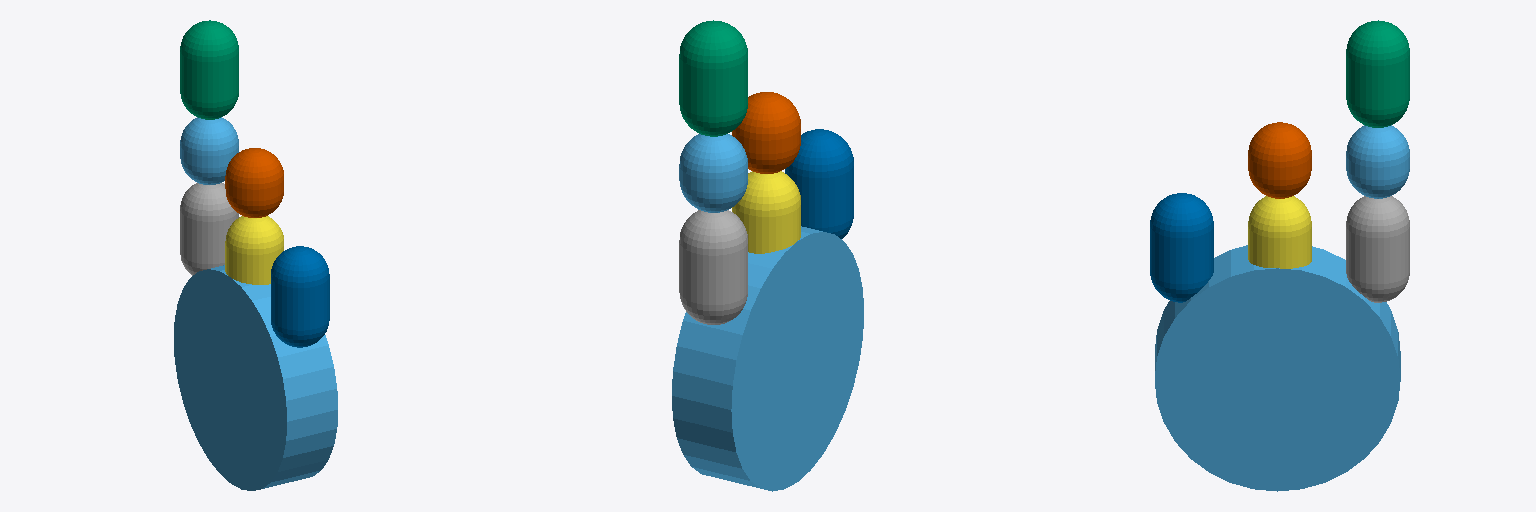
The robot description file, URDF, robot "DexterousHand":
<?xml version="1.0"?>
<robot name="DexterousHand">


    <link name="world"/>
    <joint name="world_to_palm" type="fixed">
        <parent link="world"/>
        <child link="palm"/>
        <origin xyz="0 0 0" rpy="0 0 0"/>
    </joint>
    <link name="palm">
        <inertial>
            <origin xyz="0 0 0.057" rpy="0 0 0"/>
            <mass value="0.30212892864"/>
            <inertia ixx="0.00049080844457568" ixy="0.0" ixz="0.0" iyy="0.00026746366246427523" iyz="0.0" izz="0.00026746366246427523"/>
        </inertial>
        <visual>
            <origin xyz="0 0 0.057" rpy="1.5708 0 1.5708"/>
            <geometry>
                <cylinder radius="0.057" length="0.0296"/>
            </geometry>
            <material name="default"/>
        </visual>
        <collision>
            <origin xyz="0 0 0.057" rpy="1.5708 0 1.5708"/>
            <geometry>
                <cylinder radius="0.057" length="0.0296"/>
            </geometry>
        </collision>
    </link>

    
    <joint name="thumb_joint1" type="revolute">
        <parent link="palm"/>
        <child link="thumb_base"/>
        <origin xyz="0.0 0.0 0.0" rpy="0.0 0.0 0.0"/>
        <axis xyz="1 0 0"/>
        <limit lower="0.0" upper="0.0" effort="1.0" velocity="1.0"/>
    </joint>

    <link name="thumb_base"></link>

    <joint name="thumb_joint2" type="revolute">
        <parent link="thumb_base"/>
        <child link="thumb_proximal"/>
        <origin xyz="0.0 0.0 0.0" rpy="0.0 0.0 0.0"/>
        <axis xyz="0 1 0"/>
        <limit lower="0.0" upper="0.0" effort="1.0" velocity="1.0"/>
    </joint>

    <link name="thumb_proximal">
    </link>

    <joint name="thumb_joint3" type="revolute">
        <parent link="thumb_proximal"/>
        <child link="thumb_knuckle"/>
        <origin xyz="0.0 0.0 0.0" rpy="0.0 0.0 0.0"/>
        <axis xyz="1 0 0"/>
        <limit lower="0.0" upper="0.0" effort="1.0" velocity="1.0"/>
    </joint>

    <link name="thumb_knuckle"></link>

    <joint name="thumb_joint4" type="revolute">
        <parent link="thumb_knuckle"/>
        <child link="thumb_middle"/>
        <origin xyz="0 0 0" rpy="0 0 0"/> 
        <axis xyz="0 1 0"/>
        <limit lower="0.0" upper="0.0" effort="1.0" velocity="1.0"/>
    </joint>

    <link name="thumb_middle">
    </link>

    <joint name="thumb_joint5" type="revolute">
        <parent link="thumb_middle"/>
        <child link="thumb_distal"/>
        <origin xyz="0 0 0" rpy="0 0 0"/> 
        <axis xyz="0 1 0"/>
        <limit lower="0.0" upper="0.0" effort="1.0" velocity="1.0"/>
    </joint>

    <link name="thumb_distal">
    </link>

    
    <joint name="index_joint1" type="revolute">
        <parent link="palm"/>
        <child link="index_proximal"/>
        <origin xyz="0.0 0.0465 0.091" rpy="0.0 0.0 0.0"/>
        <axis xyz="0 1 0"/>
        <limit lower="-0.314" upper="2.23" effort="1.0" velocity="1.0"/>
    </joint>

    <link name="index_proximal">
        <inertial>
            <origin xyz="0 0 0.02655" rpy="0 0 0"/>
            <mass value="0.036540024998400006"/>
            <inertia ixx="1.058665009272394e-05" ixy="0.0" ixz="0.0" 
            iyy="1.058665009272394e-05" iyz="0.0" izz="4.001863537824769e-06"/>
        </inertial>
        <visual>
            <origin xyz="0 0 0.02655" rpy="0 0 0"/>
            <geometry>
                <cylinder radius="0.0148" length="0.0235"/>
            </geometry>
            <material name="default"/>
        </visual>
        <visual>
            <origin xyz="0 0 0.0148" rpy="0 0 0"/>
            <geometry>
                <sphere radius="0.0148"/>
            </geometry>
            <material name="default"/>
        </visual>
        <visual>
            <origin xyz="0 0 0.0383" rpy="0 0 0"/>
            <geometry>
                <sphere radius="0.0148"/>
            </geometry>
            <material name="default"/>
        </visual>
        <collision>
            <origin xyz="0 0 0.02655" rpy="0 0 0"/>
            <geometry>
                <cylinder radius="0.0148" length="0.0235"/>
            </geometry>
        </collision>
        <collision>
            <origin xyz="0 0 0.0148" rpy="0 0 0"/>
            <geometry>
                <sphere radius="0.0148"/>
            </geometry>
        </collision>
        <collision>
            <origin xyz="0 0 0.0383" rpy="0 0 0"/>
            <geometry>
                <sphere radius="0.0148"/>
            </geometry>
        </collision>
    </link>

    <joint name="index_joint2" type="revolute">
        <parent link="index_proximal"/>
        <child link="index_dummy"/>
        <origin xyz="0.0 0.0 0.038" rpy="0.0 0.0 0.0"/>
        <axis xyz="1 0 0"/>
        <limit lower="-1.047" upper="1.047" effort="1.0" velocity="1.0"/>
    </joint>

    <link name="index_dummy"></link>

    <joint name="index_joint3" type="revolute">
        <parent link="index_dummy"/>
        <child link="index_middle"/>
        <origin xyz="0 0 0.015100000000000002" rpy="0 0 0"/>
        <axis xyz="0 1 0"/>
        <limit lower="-0.506" upper="1.885" effort="1.0" velocity="1.0"/>
    </joint>

    <link name="index_middle">
        <inertial>
            <origin xyz="0 0 0.01805" rpy="0 0 0"/>
            <mass value="0.0248417119104"/>
            <inertia ixx="4.058162759109537e-06" ixy="0.0" ixz="0.0" 
            iyy="4.058162759109537e-06" iyz="0.0" izz="2.7206642884270085e-06"/>
        </inertial>
        <visual>
            <origin xyz="0 0 0.01805" rpy="0 0 0"/>
            <geometry>
                <cylinder radius="0.0148" length="0.006499999999999999"/>
            </geometry>
            <material name="default"/>
        </visual>
        <visual>
            <origin xyz="0 0 0.0148" rpy="0 0 0"/>
            <geometry>
                <sphere radius="0.0148"/>
            </geometry>
            <material name="default"/>
        </visual>
        <visual>
            <origin xyz="0 0 0.0213" rpy="0 0 0"/>
            <geometry>
                <sphere radius="0.0148"/>
            </geometry>
            <material name="default"/>
        </visual>
        <collision>
            <origin xyz="0 0 0.01805" rpy="0 0 0"/>
            <geometry>
                <cylinder radius="0.0148" length="0.006499999999999999"/>
            </geometry>
        </collision>
        <collision>
            <origin xyz="0 0 0.0148" rpy="0 0 0"/>
            <geometry>
                <sphere radius="0.0148"/>
            </geometry>
        </collision>
        <collision>
            <origin xyz="0 0 0.0213" rpy="0 0 0"/>
            <geometry>
                <sphere radius="0.0148"/>
            </geometry>
        </collision>
    </link>

    <joint name="index_joint4" type="revolute">
        <parent link="index_middle"/>
        <child link="index_distal"/>
        <origin xyz="0 0 0.0361" rpy="0 0 0"/> 
        <axis xyz="0 1 0"/>
        <limit lower="-0.366" upper="2.042" effort="1.0" velocity="1.0"/>
    </joint>

    <link name="index_distal">
        <inertial>
            <origin xyz="0 0 0.026" rpy="0 0 0"/>
            <mass value="0.035783075328"/>
            <inertia ixx="1.002260084553728e-05" ixy="0.0" ixz="0.0" 
            iyy="1.002260084553728e-05" iyz="0.0" izz="3.91896240992256e-06"/>
        </inertial>
        <visual>
            <origin xyz="0 0 0.026" rpy="0 0 0"/>
            <geometry>
                <cylinder radius="0.0148" length="0.022399999999999996"/>
            </geometry>
            <material name="default"/>
        </visual>
        <visual>
            <origin xyz="0 0 0.0148" rpy="0 0 0"/>
            <geometry>
                <sphere radius="0.0148"/>
            </geometry>
            <material name="default"/>
        </visual>
        <visual>
            <origin xyz="0 0 0.0372" rpy="0 0 0"/>
            <geometry>
                <sphere radius="0.0148"/>
            </geometry>
            <material name="default"/>
        </visual>
        <collision>
            <origin xyz="0 0 0.026" rpy="0 0 0"/>
            <geometry>
                <cylinder radius="0.0148" length="0.022399999999999996"/>
            </geometry>
        </collision>
        <collision>
            <origin xyz="0 0 0.0148" rpy="0 0 0"/>
            <geometry>
                <sphere radius="0.0148"/>
            </geometry>
        </collision>
        <collision>
            <origin xyz="0 0 0.0372" rpy="0 0 0"/>
            <geometry>
                <sphere radius="0.0148"/>
            </geometry>
        </collision>
    </link>

    
    <joint name="middle_joint1" type="revolute">
        <parent link="palm"/>
        <child link="middle_proximal"/>
        <origin xyz="0.0 0.0011 0.091" rpy="0.0 0.0 0.0"/>
        <axis xyz="0 1 0"/>
        <limit lower="-0.314" upper="2.23" effort="1.0" velocity="1.0"/>
    </joint>

    <link name="middle_proximal">
        <inertial>
            <origin xyz="0 0 0.02655" rpy="0 0 0"/>
            <mass value="0.036540024998400006"/>
            <inertia ixx="1.058665009272394e-05" ixy="0.0" ixz="0.0" 
            iyy="1.058665009272394e-05" iyz="0.0" izz="4.001863537824769e-06"/>
        </inertial>
        <visual>
            <origin xyz="0 0 0.02655" rpy="0 0 0"/>
            <geometry>
                <cylinder radius="0.0148" length="0.0235"/>
            </geometry>
            <material name="default"/>
        </visual>
        <visual>
            <origin xyz="0 0 0.0148" rpy="0 0 0"/>
            <geometry>
                <sphere radius="0.0148"/>
            </geometry>
            <material name="default"/>
        </visual>
        <visual>
            <origin xyz="0 0 0.0383" rpy="0 0 0"/>
            <geometry>
                <sphere radius="0.0148"/>
            </geometry>
            <material name="default"/>
        </visual>
        <collision>
            <origin xyz="0 0 0.02655" rpy="0 0 0"/>
            <geometry>
                <cylinder radius="0.0148" length="0.0235"/>
            </geometry>
        </collision>
        <collision>
            <origin xyz="0 0 0.0148" rpy="0 0 0"/>
            <geometry>
                <sphere radius="0.0148"/>
            </geometry>
        </collision>
        <collision>
            <origin xyz="0 0 0.0383" rpy="0 0 0"/>
            <geometry>
                <sphere radius="0.0148"/>
            </geometry>
        </collision>
    </link>

    <joint name="middle_joint2" type="revolute">
        <parent link="middle_proximal"/>
        <child link="middle_dummy"/>
        <origin xyz="0.0 0.0 0.038" rpy="0.0 0.0 0.0"/>
        <axis xyz="1 0 0"/>
        <limit lower="-1.047" upper="1.047" effort="1.0" velocity="1.0"/>
    </joint>

    <link name="middle_dummy"></link>

    <joint name="middle_joint3" type="revolute">
        <parent link="middle_dummy"/>
        <child link="middle_middle"/>
        <origin xyz="0 0 0.015100000000000002" rpy="0 0 0"/>
        <axis xyz="0 1 0"/>
        <limit lower="-0.506" upper="1.885" effort="1.0" velocity="1.0"/>
    </joint>

    <link name="middle_middle">
        <inertial>
            <origin xyz="0 0 0.01805" rpy="0 0 0"/>
            <mass value="0.0248417119104"/>
            <inertia ixx="4.058162759109537e-06" ixy="0.0" ixz="0.0" 
            iyy="4.058162759109537e-06" iyz="0.0" izz="2.7206642884270085e-06"/>
        </inertial>
        <visual>
            <origin xyz="0 0 0.01805" rpy="0 0 0"/>
            <geometry>
                <cylinder radius="0.0148" length="0.006499999999999999"/>
            </geometry>
            <material name="default"/>
        </visual>
        <visual>
            <origin xyz="0 0 0.0148" rpy="0 0 0"/>
            <geometry>
                <sphere radius="0.0148"/>
            </geometry>
            <material name="default"/>
        </visual>
        <visual>
            <origin xyz="0 0 0.0213" rpy="0 0 0"/>
            <geometry>
                <sphere radius="0.0148"/>
            </geometry>
            <material name="default"/>
        </visual>
        <collision>
            <origin xyz="0 0 0.01805" rpy="0 0 0"/>
            <geometry>
                <cylinder radius="0.0148" length="0.006499999999999999"/>
            </geometry>
        </collision>
        <collision>
            <origin xyz="0 0 0.0148" rpy="0 0 0"/>
            <geometry>
                <sphere radius="0.0148"/>
            </geometry>
        </collision>
        <collision>
            <origin xyz="0 0 0.0213" rpy="0 0 0"/>
            <geometry>
                <sphere radius="0.0148"/>
            </geometry>
        </collision>
    </link>

    <joint name="middle_joint4" type="revolute">
        <parent link="middle_middle"/>
        <child link="middle_distal"/>
        <origin xyz="0 0 0.0361" rpy="0 0 0"/> 
        <axis xyz="0 1 0"/>
        <limit lower="0.0" upper="0.0" effort="1.0" velocity="1.0"/>
    </joint>

    <link name="middle_distal">
    </link>

    
    <joint name="ring_joint1" type="revolute">
        <parent link="palm"/>
        <child link="ring_proximal"/>
        <origin xyz="0.0 0.0 0.0" rpy="0.0 0.0 0.0"/>
        <axis xyz="1 0 0"/>
        <limit lower="0.0" upper="0.0" effort="1.0" velocity="1.0"/>
    </joint>

    <link name="ring_proximal">
    </link>

    <joint name="ring_joint2" type="revolute">
        <parent link="ring_proximal"/>
        <child link="ring_dummy"/>
        <origin xyz="0.0 0.0 0.0" rpy="0.0 0.0 0.0"/>
        <axis xyz="0 1 0"/>
        <limit lower="0.0" upper="0.0" effort="1.0" velocity="1.0"/>
    </joint>

    <link name="ring_dummy"></link>

    <joint name="ring_joint3" type="revolute">
        <parent link="ring_dummy"/>
        <child link="ring_middle"/>
        <origin xyz="0 0 0" rpy="0 0 0"/>
        <axis xyz="0 1 0"/>
        <limit lower="0.0" upper="0.0" effort="1.0" velocity="1.0"/>
    </joint>

    <link name="ring_middle">
    </link>

    <joint name="ring_joint4" type="revolute">
        <parent link="ring_middle"/>
        <child link="ring_distal"/>
        <origin xyz="0 0 0" rpy="0 0 0"/> 
        <axis xyz="0 1 0"/>
        <limit lower="0.0" upper="0.0" effort="1.0" velocity="1.0"/>
    </joint>

    <link name="ring_distal">
    </link>

    
    <joint name="little_joint0" type="revolute">
        <parent link="palm"/>
        <child link="little_base"/>
        <origin xyz="0.0 0.0 0.0" rpy="0.0 0.0 0.0"/>
        <axis xyz="0 1 0"/>
        <limit lower="0.0" upper="0.0" effort="1.0" velocity="1.0"/>
    </joint>

    <link name="little_base"></link>

    <joint name="little_joint1" type="revolute">
        <parent link="little_base"/>
        <child link="little_proximal"/>
        <origin xyz="0.0 -0.0443 0.091" rpy="-0.0 -0.0 -0.0"/>
        <axis xyz="0 1 0"/>
        <limit lower="-0.314" upper="2.23" effort="1.0" velocity="1.0"/>
    </joint>

    <link name="little_proximal">
        <inertial>
            <origin xyz="0 0 0.02655" rpy="0 0 0"/>
            <mass value="0.036540024998400006"/>
            <inertia ixx="1.058665009272394e-05" ixy="0.0" ixz="0.0" 
            iyy="1.058665009272394e-05" iyz="0.0" izz="4.001863537824769e-06"/>
        </inertial>
        <visual>
            <origin xyz="0 0 0.02655" rpy="0 0 0"/>
            <geometry>
                <cylinder radius="0.0148" length="0.0235"/>
            </geometry>
            <material name="default"/>
        </visual>
        <visual>
            <origin xyz="0 0 0.0148" rpy="0 0 0"/>
            <geometry>
                <sphere radius="0.0148"/>
            </geometry>
            <material name="default"/>
        </visual>
        <visual>
            <origin xyz="0 0 0.0383" rpy="0 0 0"/>
            <geometry>
                <sphere radius="0.0148"/>
            </geometry>
            <material name="default"/>
        </visual>
        <collision>
            <origin xyz="0 0 0.02655" rpy="0 0 0"/>
            <geometry>
                <cylinder radius="0.0148" length="0.0235"/>
            </geometry>
        </collision>
        <collision>
            <origin xyz="0 0 0.0148" rpy="0 0 0"/>
            <geometry>
                <sphere radius="0.0148"/>
            </geometry>
        </collision>
        <collision>
            <origin xyz="0 0 0.0383" rpy="0 0 0"/>
            <geometry>
                <sphere radius="0.0148"/>
            </geometry>
        </collision>
    </link>

    <joint name="little_joint2" type="revolute">
        <parent link="little_proximal"/>
        <child link="little_dummy"/>
        <origin xyz="0.0 0.0 0.038" rpy="0.0 0.0 0.0"/>
        <axis xyz="0 1 0"/>
        <limit lower="0.0" upper="0.0" effort="1.0" velocity="1.0"/>
    </joint>

    <link name="little_dummy"></link>

    <joint name="little_joint3" type="revolute">
        <parent link="little_dummy"/>
        <child link="little_middle"/>
        <origin xyz="0 0 0.015100000000000002" rpy="0 0 0"/>
        <axis xyz="0 1 0"/>
        <limit lower="0.0" upper="0.0" effort="1.0" velocity="1.0"/>
    </joint>

    <link name="little_middle">
    </link>

    <joint name="little_joint4" type="revolute">
        <parent link="little_middle"/>
        <child link="little_distal"/>
        <origin xyz="0 0 0" rpy="0 0 0"/>
        <axis xyz="0 1 0"/>
        <limit lower="0.0" upper="0.0" effort="1.0" velocity="1.0"/>
    </joint>

    <link name="little_distal">
    </link>

</robot>

--- Render facts (derived) ---
Views: 3 orthographic renders of the robot side by side, from view 1: azimuth 30°, elevation 25°; view 2: azimuth 150°, elevation 25°; view 3: azimuth 270°, elevation 25°.
Model DexterousHand with 24 links and 23 joints (22 revolute, 1 fixed), rooted at world, posed all joints at 0.
Visible links, largest first — view 1: palm, little_proximal, index_distal, index_proximal, middle_middle, middle_proximal, index_middle; view 2: palm, index_proximal, index_distal, little_proximal, index_middle, middle_proximal, middle_middle; view 3: palm, index_distal, little_proximal, index_proximal, middle_proximal, middle_middle, index_middle.
Link boxes in pixels (x1,y1,x2,y2): palm: (174,265,337,490); little_proximal: (271,246,329,347); index_distal: (180,20,238,119); index_proximal: (180,183,238,275); middle_middle: (225,148,283,217); middle_proximal: (225,216,283,284); index_middle: (180,117,238,184); palm: (672,226,863,491); index_proximal: (679,210,747,324); index_distal: (679,20,747,136); little_proximal: (785,129,853,238); index_middle: (679,134,747,212); middle_proximal: (732,171,800,253); middle_middle: (732,92,800,173); palm: (1155,245,1400,491); index_distal: (1346,20,1409,127); little_proximal: (1150,193,1213,302); index_proximal: (1346,196,1409,302); middle_proximal: (1248,196,1311,268); middle_middle: (1248,122,1311,198); index_middle: (1346,125,1409,198).
Size in the robot's own frame: 0.0296 by 0.1204 by 0.2322 metres.
Geometry: primitives only (box / cylinder / sphere), no mesh files.
